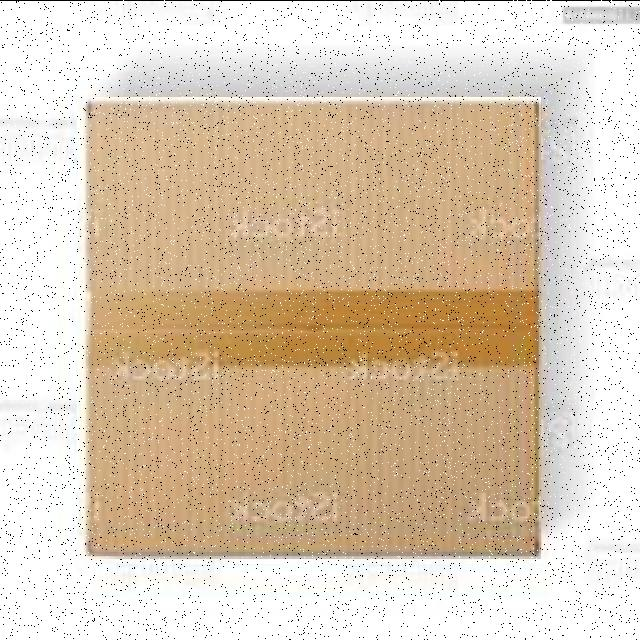normal: (77, 96, 541, 558)
